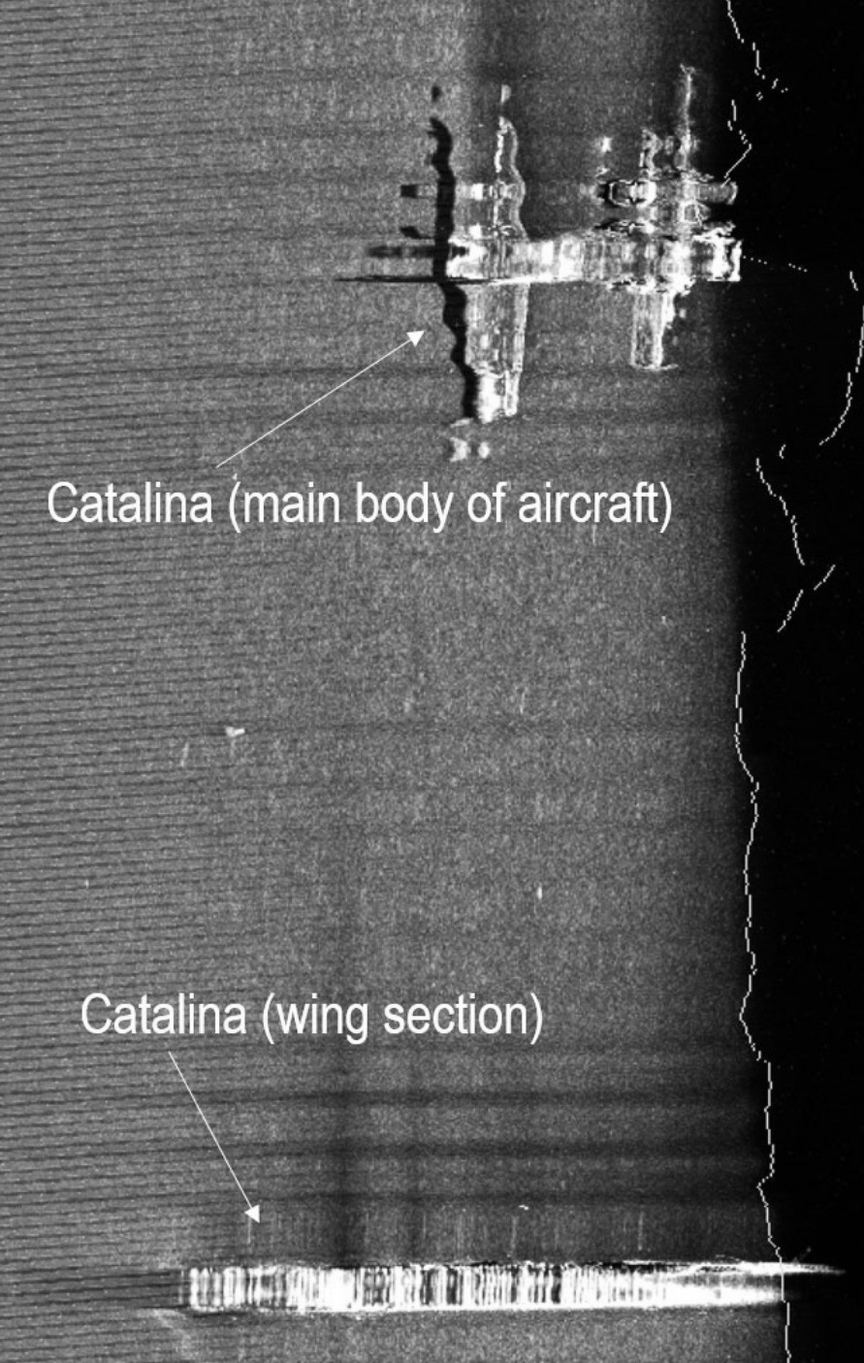plane: (449, 94, 747, 419)
ship: (184, 1251, 795, 1329)
